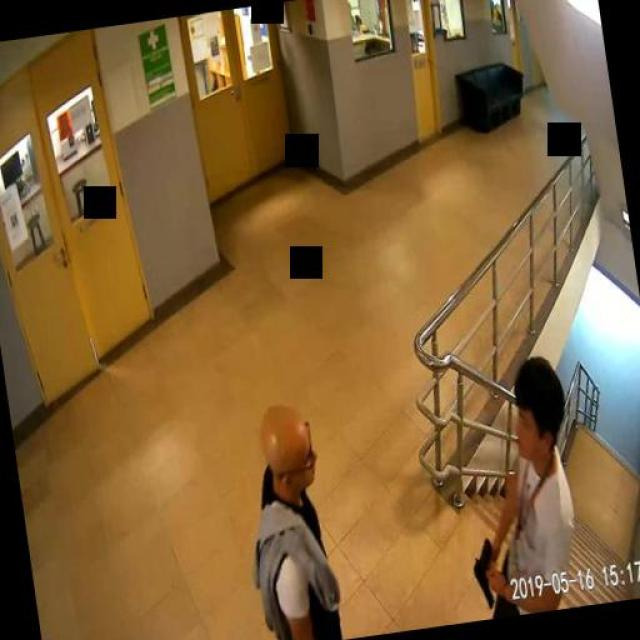gun: (469, 536, 500, 609)
